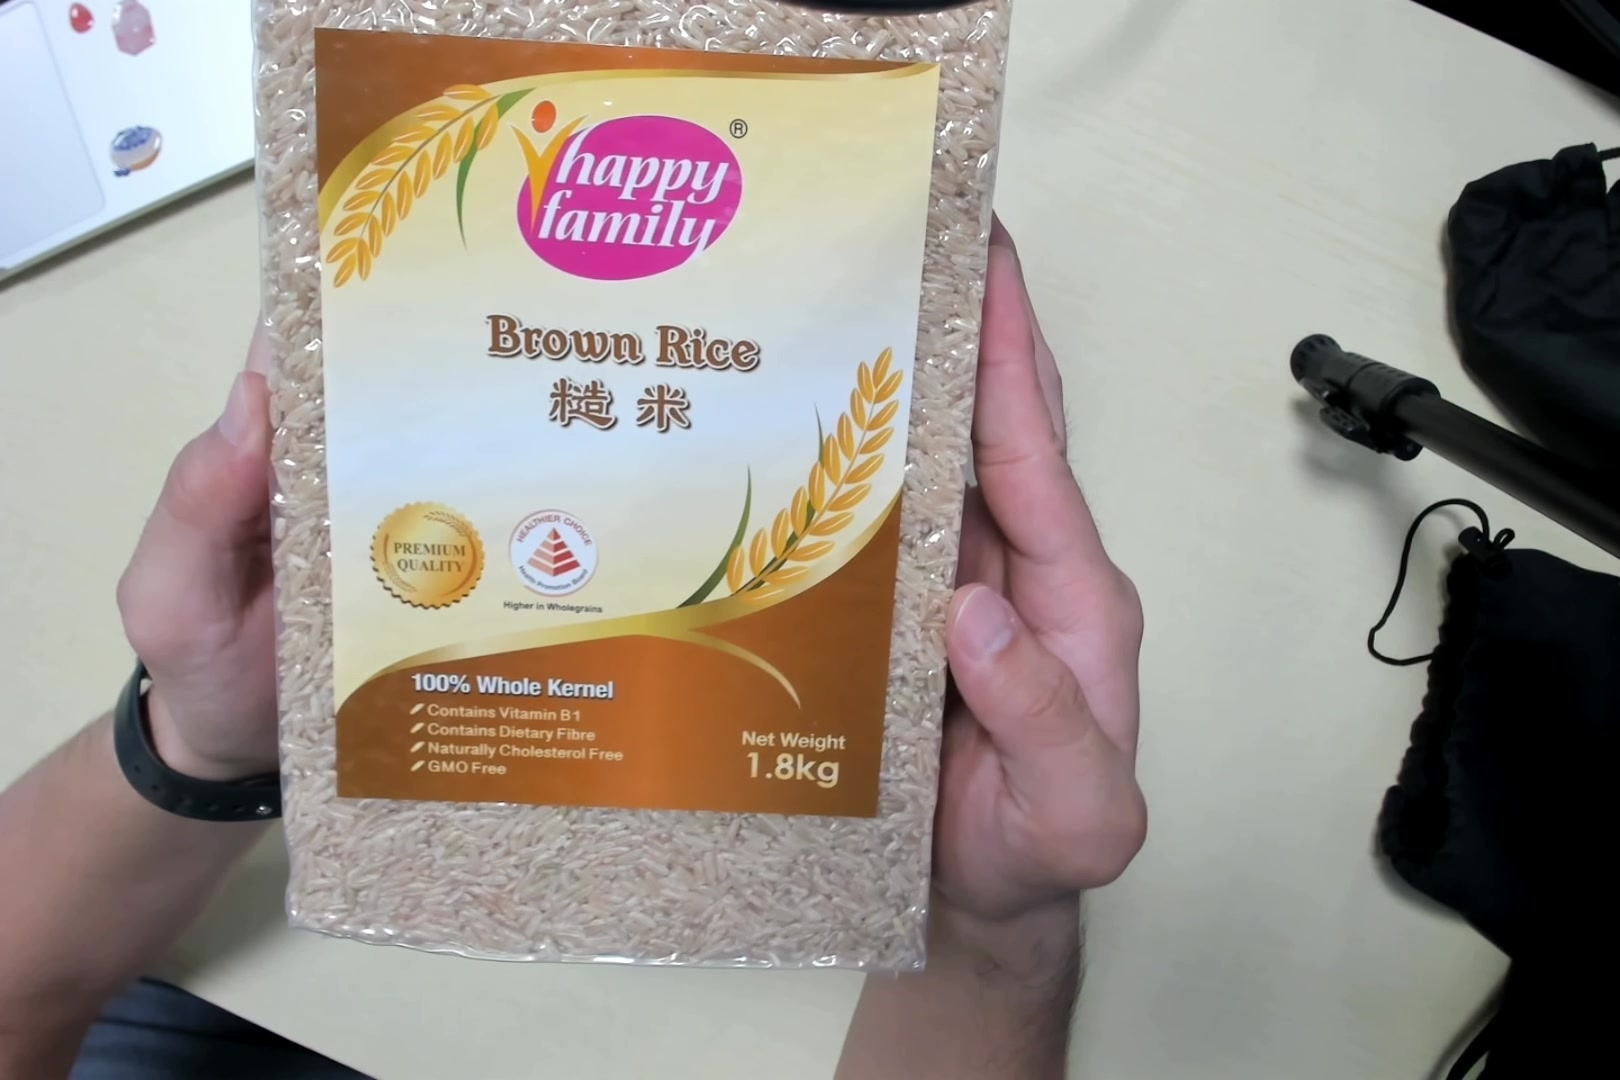Rice(BrownOthers)_1000-1999g_NonHalal_Healthy: (256, 1, 988, 976)
